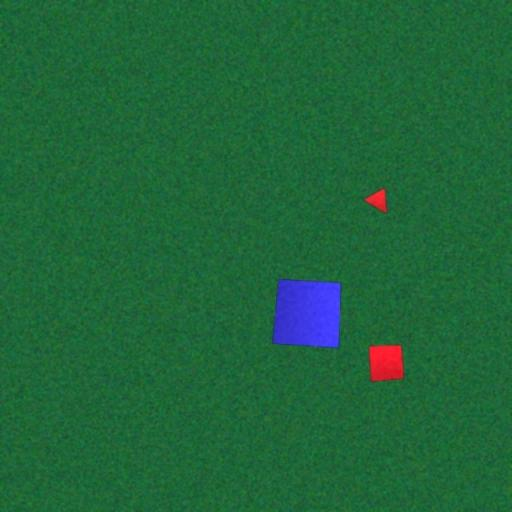BLUE_SQUARE: (272, 278, 342, 349)
RED_SQUARE: (368, 344, 405, 382)
